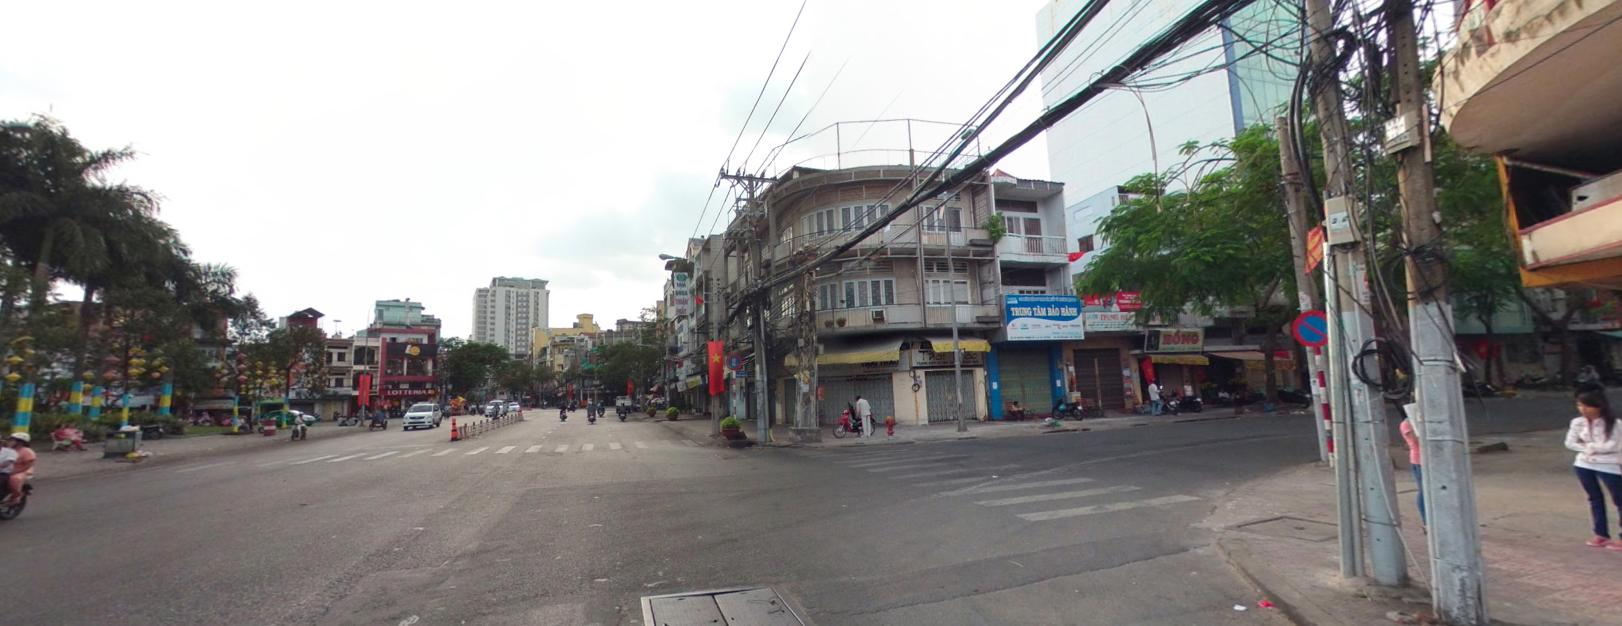Cam dung va do: (1291, 308, 1332, 344), (725, 352, 741, 368)
